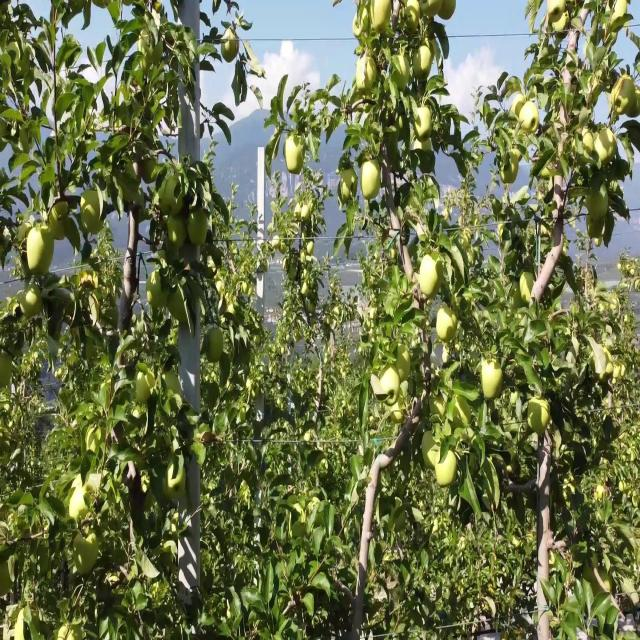apple: (28, 227, 56, 279), (420, 255, 445, 302), (160, 177, 186, 217), (116, 163, 140, 206), (68, 483, 93, 523), (616, 78, 640, 119), (148, 270, 170, 313), (436, 447, 458, 489), (436, 305, 459, 345), (596, 127, 618, 167), (528, 398, 551, 436), (20, 284, 44, 320), (360, 163, 382, 201), (412, 42, 433, 80), (548, 7, 571, 41), (80, 191, 102, 226), (484, 362, 504, 400), (360, 56, 380, 94), (588, 184, 609, 220), (188, 213, 209, 249), (168, 284, 187, 322), (392, 56, 412, 92), (380, 369, 400, 405), (48, 206, 68, 242), (372, 0, 392, 36), (136, 369, 156, 405), (288, 135, 304, 178), (168, 220, 188, 251), (424, 433, 441, 469), (452, 398, 472, 428), (520, 106, 540, 135), (500, 156, 520, 185), (224, 28, 240, 64), (208, 327, 224, 363), (52, 199, 68, 235), (396, 348, 412, 382), (416, 106, 432, 139), (592, 348, 607, 382), (52, 199, 69, 228), (0, 355, 13, 389), (144, 156, 159, 185), (520, 277, 536, 304), (420, 149, 436, 176), (84, 215, 104, 236), (512, 92, 526, 121), (396, 113, 410, 142), (68, 220, 81, 249), (588, 220, 604, 242), (588, 220, 604, 242), (408, 7, 421, 34), (608, 92, 620, 121), (424, 0, 441, 20), (392, 405, 407, 427), (344, 170, 356, 197), (604, 220, 616, 247), (512, 142, 525, 164), (584, 135, 596, 158), (512, 291, 526, 309), (584, 561, 595, 583), (540, 163, 552, 183), (440, 7, 456, 21), (340, 184, 351, 204), (460, 234, 472, 252), (605, 355, 613, 382), (616, 362, 626, 382), (540, 227, 551, 242), (288, 270, 297, 284), (308, 241, 316, 256), (308, 298, 316, 313), (304, 206, 311, 220), (304, 284, 311, 297), (592, 241, 603, 249), (296, 206, 301, 222), (296, 327, 301, 341)
